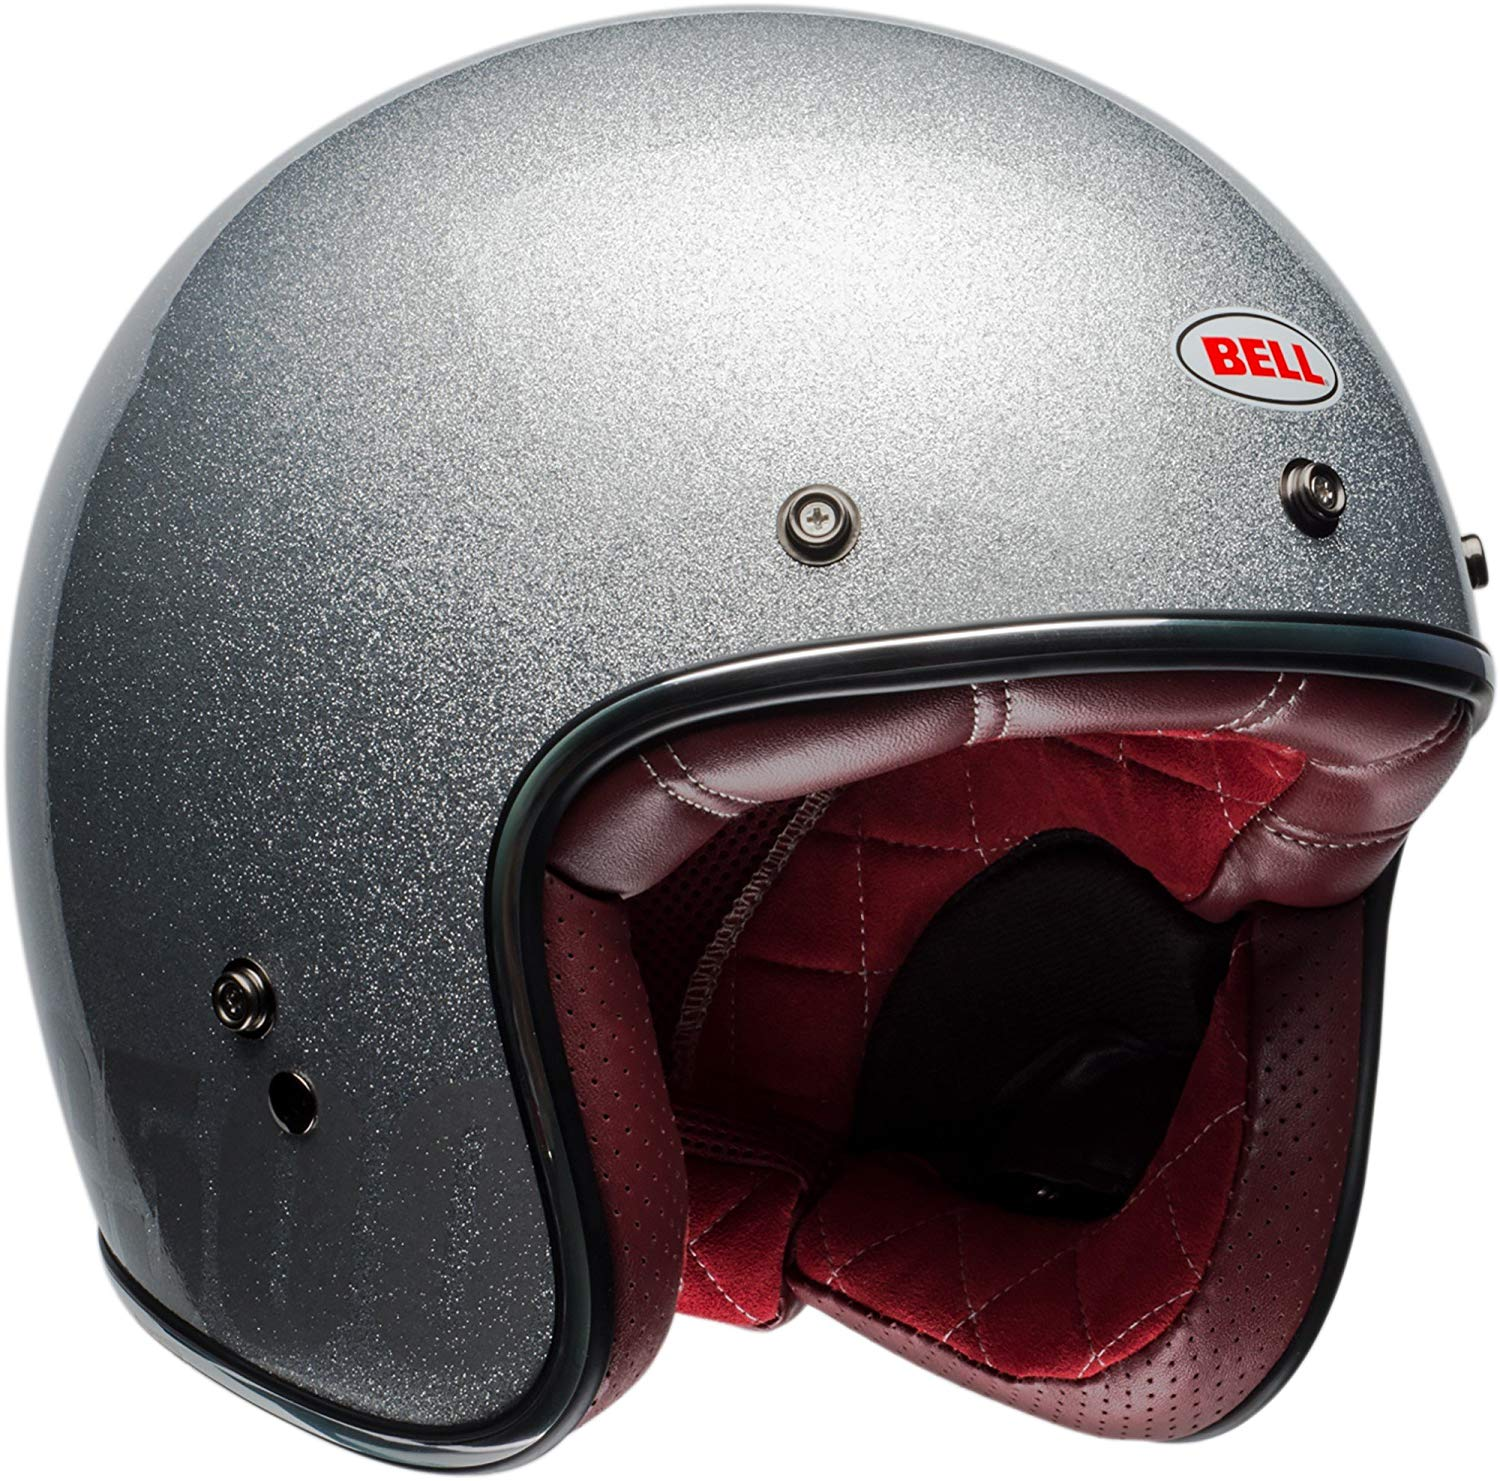with_helmet: (3, 12, 1500, 1478)
